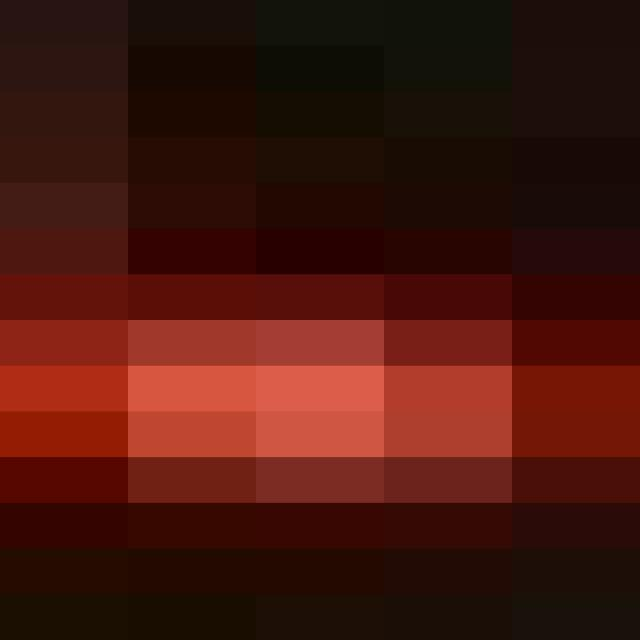.: (55, 267, 640, 570)
